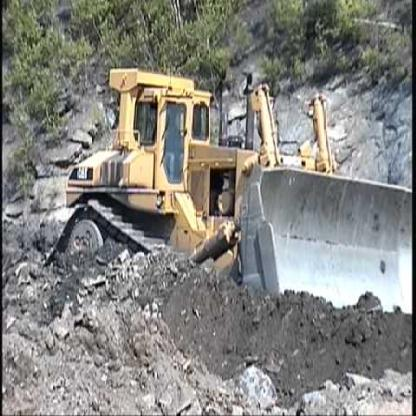bull_dozer/loader/grader: (41, 53, 415, 380)
